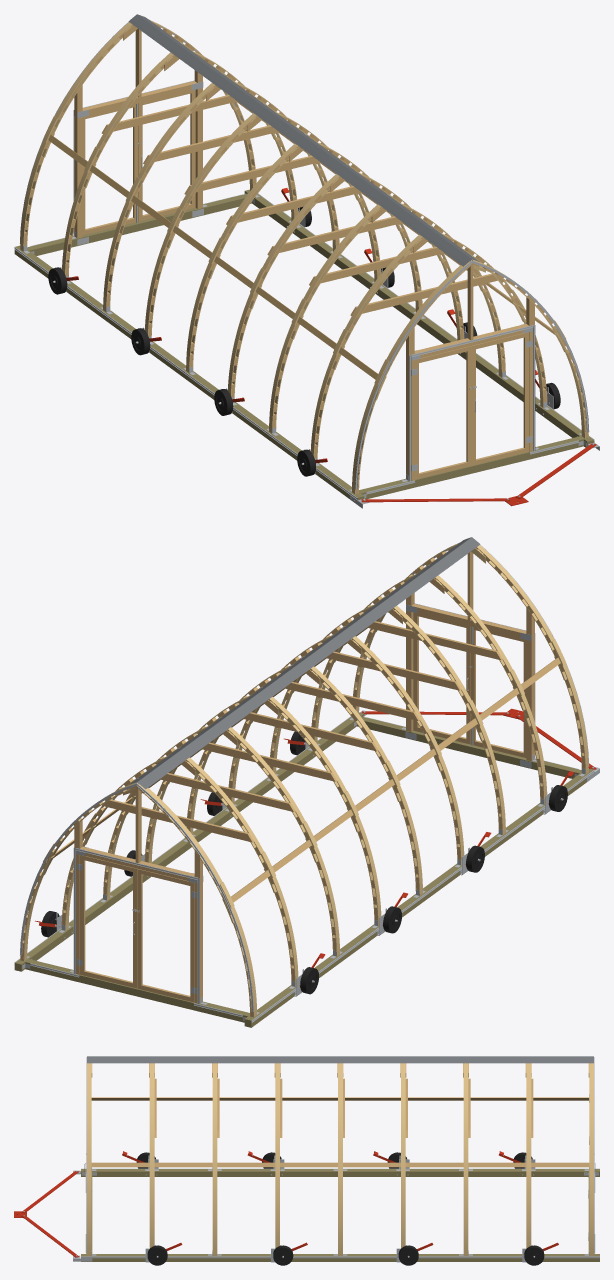
The picture shows the model from 3 angles, top to bottom: view 1: azimuth 30°, elevation 25°; view 2: azimuth 150°, elevation 25°; view 3: azimuth 270°, elevation 25°; orthographic projection. The views are drawn at different scales.
Parts seen in each view (by area): view 1: b231, b49, b50, b57, b112, b111, b113, b114, b233, b109, b105, b237 (+13 smaller); view 2: b231, b49, b50, b57, b113, b114, b111, b112, b239, b236, b235, b237 (+13 smaller); view 3: b231, b50, b49, b56, b57, b227, b305, b493, b276, b323, b511, b558 (+17 smaller).
Boxes of the visible parts, bbox=[...] form: b231: bbox=[128, 14, 479, 266]; b49: bbox=[244, 189, 594, 447]; b50: bbox=[14, 245, 364, 500]; b57: bbox=[48, 135, 384, 383]; b112: bbox=[414, 346, 471, 479]; b111: bbox=[472, 332, 528, 465]; b113: bbox=[138, 89, 195, 221]; b114: bbox=[82, 103, 138, 234]; b233: bbox=[350, 273, 497, 316]; b109: bbox=[74, 85, 82, 238]; b105: bbox=[406, 327, 414, 480]; b237: bbox=[184, 155, 319, 194]; b231: bbox=[129, 537, 480, 789]; b49: bbox=[14, 712, 364, 971]; b50: bbox=[244, 768, 593, 1027]; b57: bbox=[224, 657, 560, 906]; b113: bbox=[80, 855, 137, 988]; b114: bbox=[137, 868, 194, 1002]; b111: bbox=[413, 612, 470, 744]; b112: bbox=[470, 626, 526, 757]; b239: bbox=[102, 799, 253, 842]; b236: bbox=[229, 710, 378, 751]; b235: bbox=[284, 682, 419, 720]; b237: bbox=[201, 742, 336, 781]; b231: bbox=[87, 1056, 593, 1063]; b50: bbox=[81, 1169, 599, 1176]; b49: bbox=[81, 1254, 599, 1261]; b56: bbox=[91, 1162, 589, 1167]; b57: bbox=[91, 1097, 588, 1100]; b227: bbox=[81, 1256, 599, 1258]; b305: bbox=[212, 1169, 217, 1255]; b493: bbox=[463, 1169, 468, 1255]; b276: bbox=[149, 1063, 154, 1148]; b323: bbox=[212, 1063, 217, 1148]; b511: bbox=[463, 1063, 468, 1148]; b558: bbox=[526, 1063, 531, 1148].
Bounding box in the file's own units: 4550 × 3557 × 11668.
